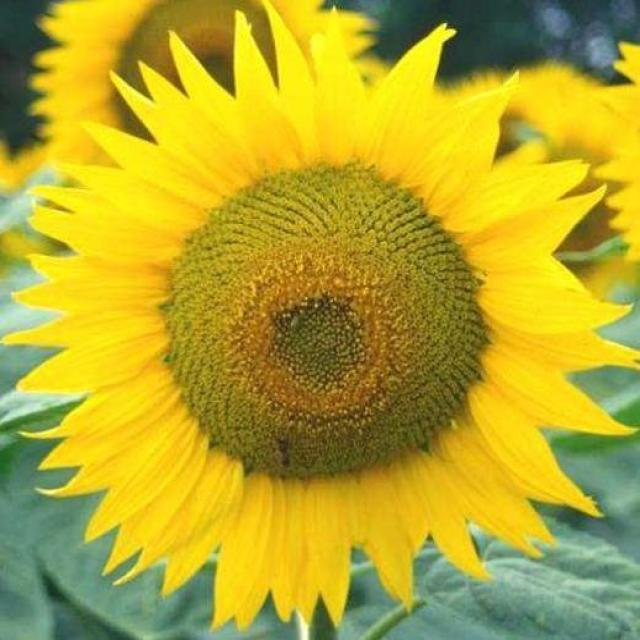sunflower: (0, 0, 639, 639), (29, 0, 385, 198), (422, 58, 630, 316), (585, 37, 640, 272), (0, 0, 47, 205)
